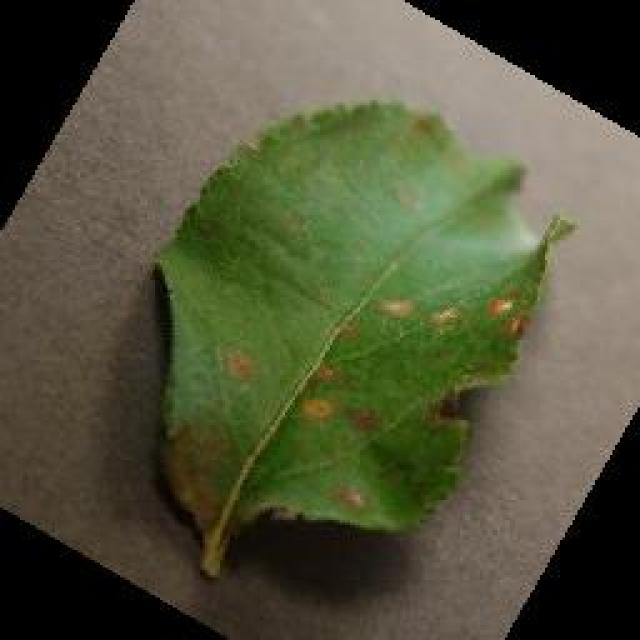apple cedar apple rust: (147, 95, 575, 580)
